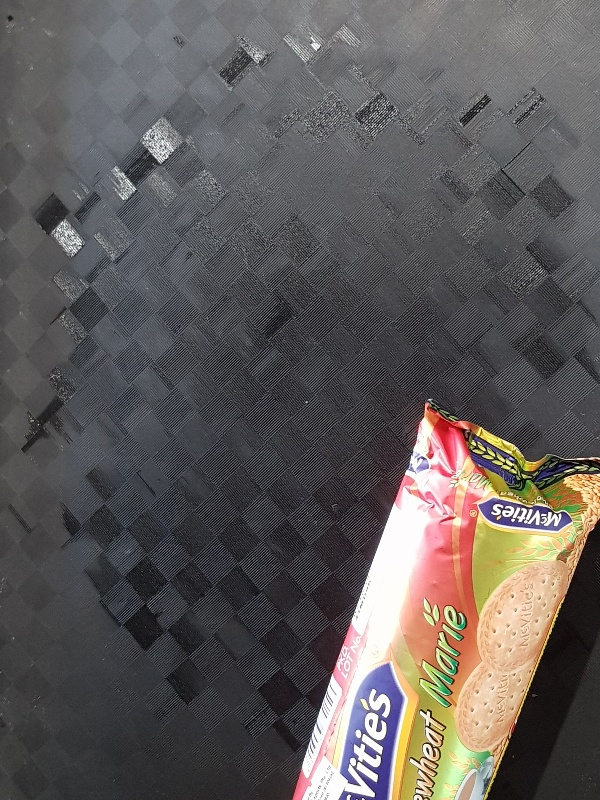McVitie's Wholewheat Marie: (287, 394, 599, 800)
